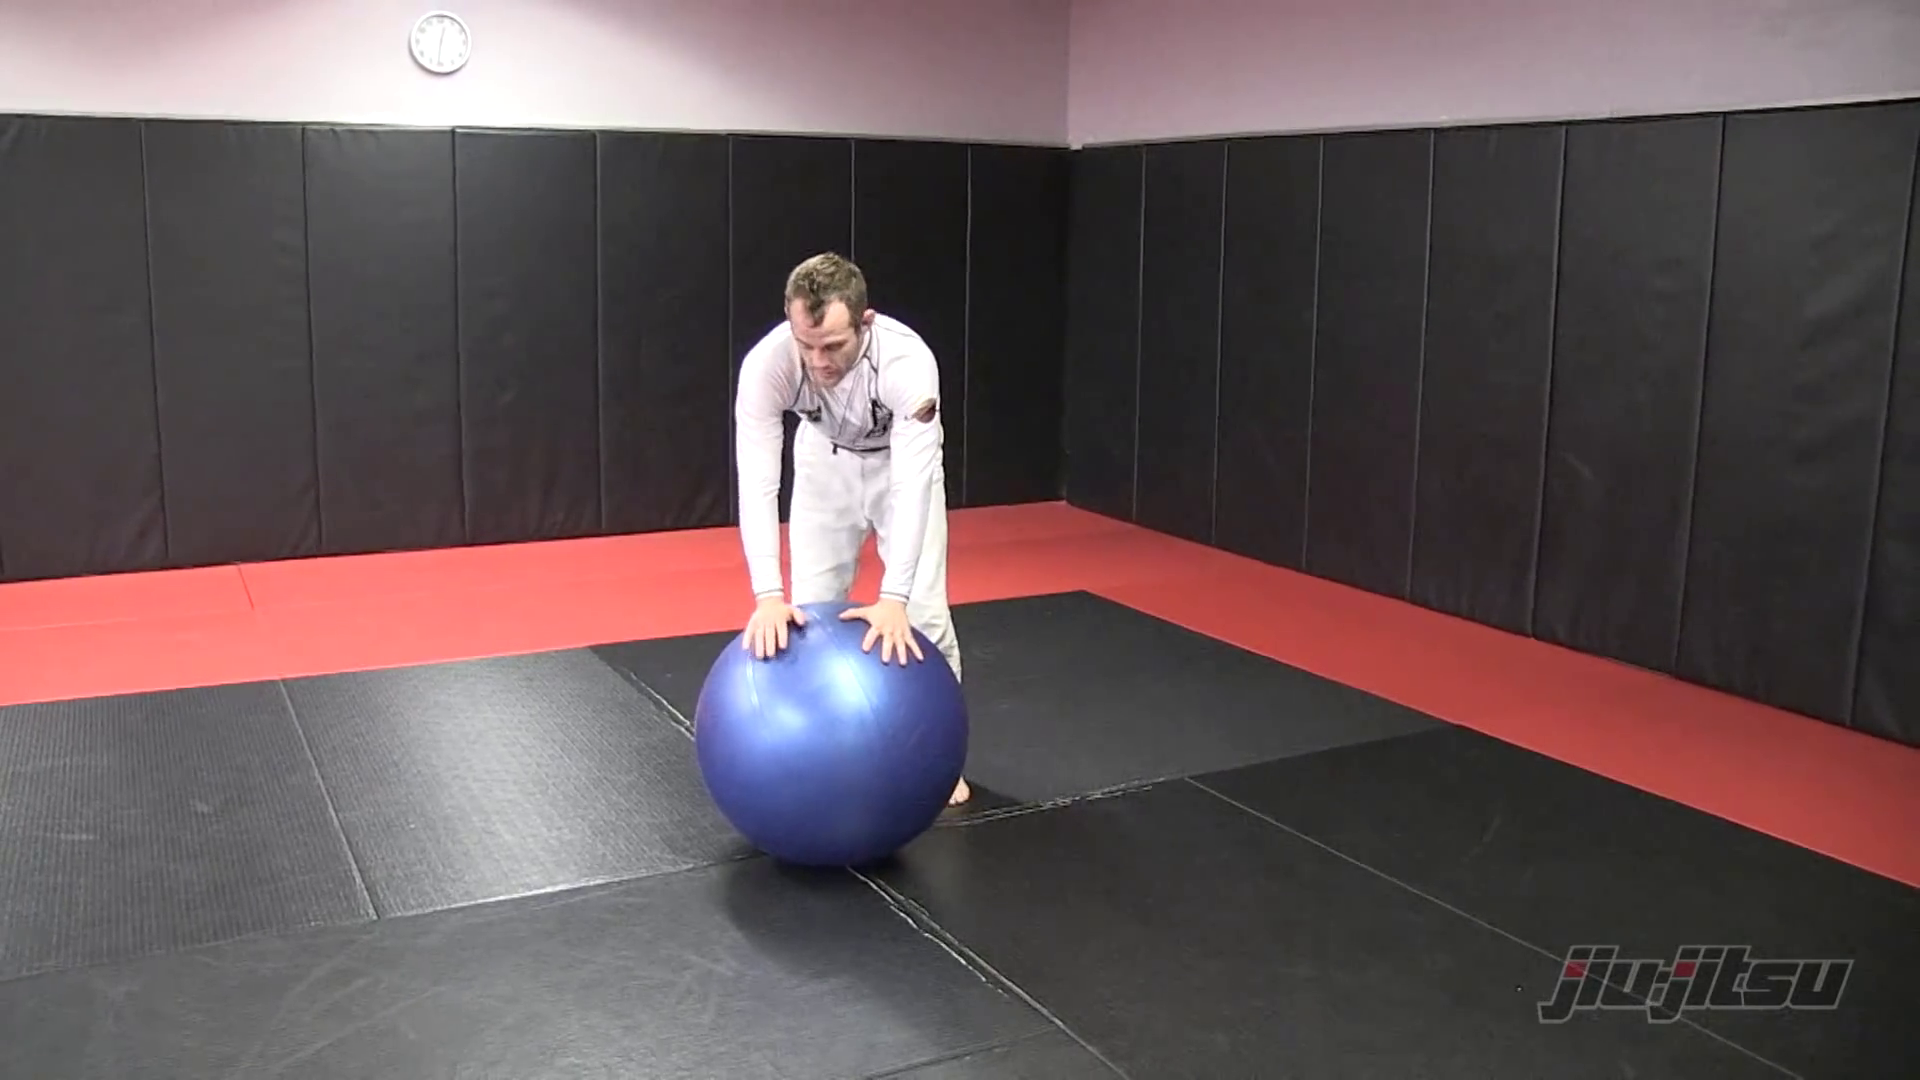yogaball: (678, 592, 986, 865)
